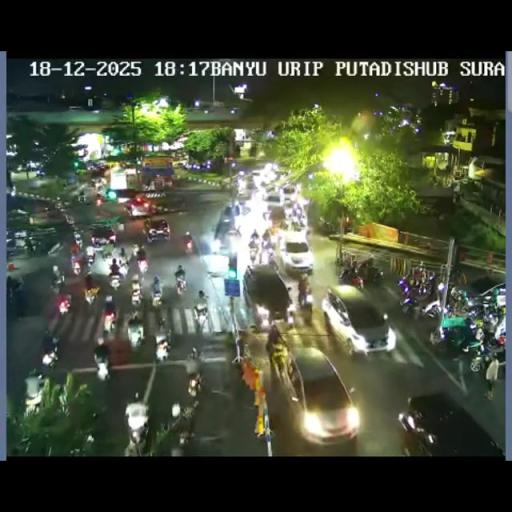Car: (274, 341, 357, 445), (399, 390, 504, 454), (322, 285, 396, 355), (242, 263, 291, 330), (277, 230, 314, 276), (213, 204, 240, 245), (30, 200, 67, 226), (200, 253, 230, 277), (125, 195, 154, 218), (144, 218, 170, 242), (250, 168, 276, 191), (90, 225, 116, 247), (265, 204, 286, 229), (235, 172, 254, 197), (280, 183, 298, 206)
Motorcycle: (24, 274, 72, 397), (85, 241, 149, 294), (398, 269, 441, 315), (463, 326, 505, 372), (462, 294, 503, 330), (266, 326, 288, 372), (24, 374, 45, 412), (6, 275, 25, 315), (338, 262, 366, 288), (13, 426, 37, 454), (448, 286, 470, 315), (124, 429, 146, 455), (127, 313, 144, 346), (192, 302, 209, 334), (154, 331, 171, 363), (187, 368, 204, 398), (297, 284, 313, 314), (41, 344, 58, 370), (285, 290, 298, 324), (77, 430, 95, 454), (94, 354, 110, 380), (155, 306, 168, 336), (130, 278, 143, 306), (102, 309, 116, 335), (84, 282, 99, 306), (318, 217, 338, 235), (177, 426, 192, 448), (108, 268, 122, 290), (70, 252, 83, 275), (174, 274, 188, 295), (453, 268, 467, 289), (368, 266, 384, 284), (50, 274, 64, 294), (151, 284, 163, 307), (136, 252, 148, 274), (58, 294, 70, 316), (261, 245, 274, 265), (248, 242, 259, 264), (187, 347, 201, 364), (342, 215, 353, 234), (102, 242, 114, 259), (85, 244, 95, 264), (296, 206, 306, 226), (118, 249, 129, 266), (170, 402, 181, 418), (184, 237, 194, 254), (25, 237, 35, 254), (76, 192, 90, 204), (64, 212, 75, 226), (73, 232, 82, 249), (249, 230, 259, 245), (130, 245, 139, 261), (283, 216, 293, 230), (262, 228, 272, 242), (94, 178, 104, 191), (95, 194, 103, 206), (116, 222, 124, 234)
